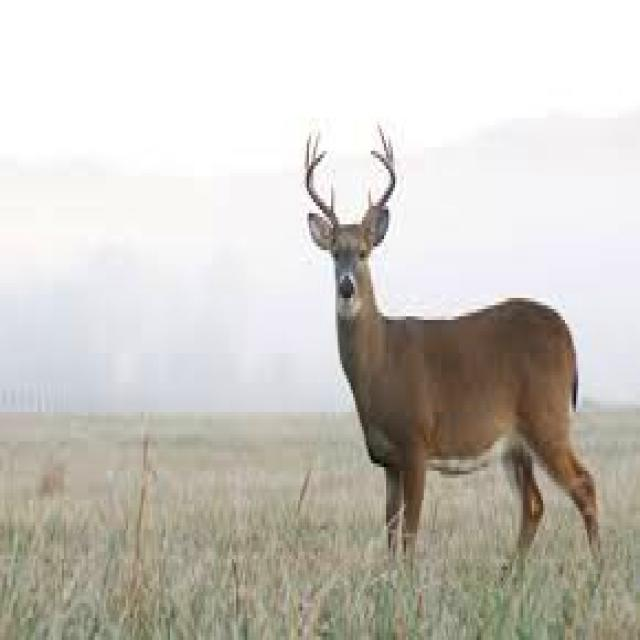deer: (305, 129, 598, 555)
